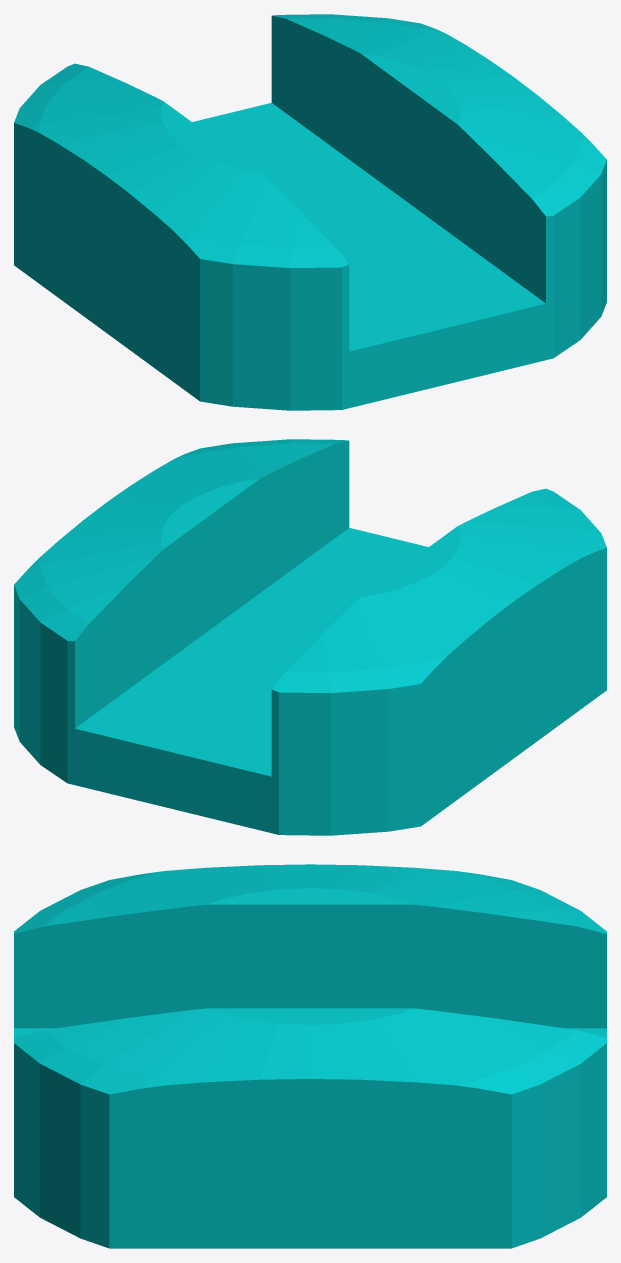
Rendered from gripper_base_mesh.dae.
3 renders of one model, top to bottom at view 1: azimuth 30°, elevation 25°; view 2: azimuth 150°, elevation 25°; view 3: azimuth 270°, elevation 25°, orthographic. The views are drawn at different scales.
Visible parts, largest first — view 1: gripper_base; view 2: gripper_base; view 3: gripper_base.
Boxes of the visible parts, left/top/right/bottom form: gripper_base: left=14, top=14, right=606, bottom=410; gripper_base: left=14, top=439, right=606, bottom=835; gripper_base: left=14, top=864, right=606, bottom=1248.
Size of the model in its own units: 0.4208 by 0.4917 by 0.169.
